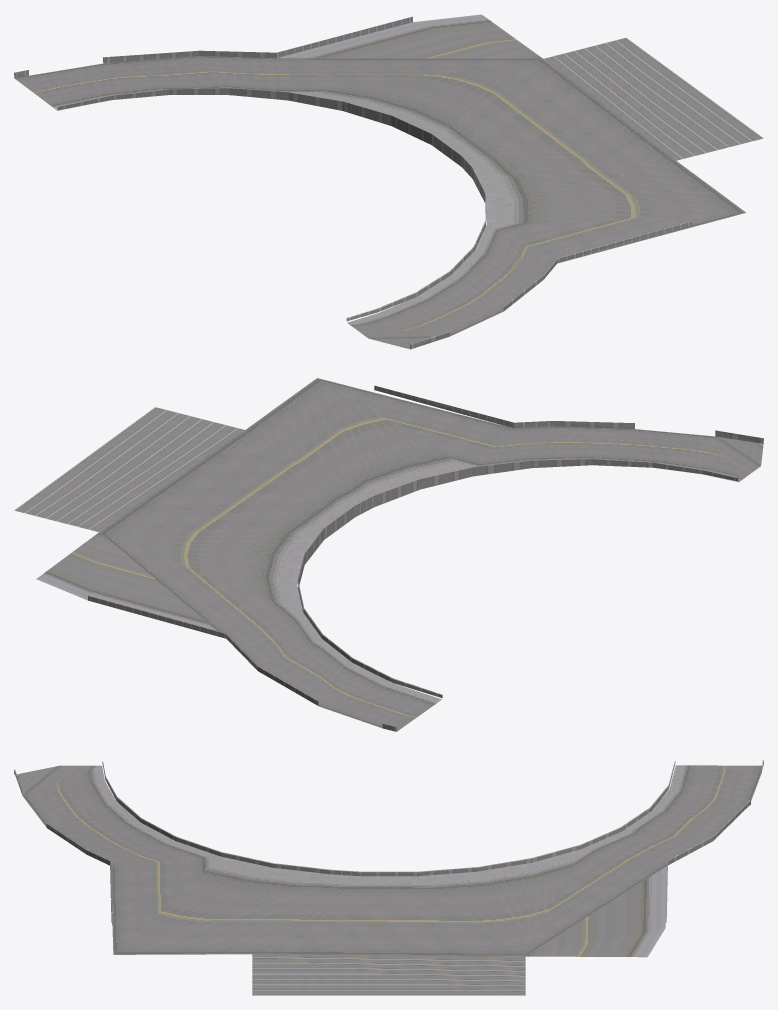
The model's file is lodageroad1.obj.
The picture shows the model from 3 angles, top to bottom: view 1: azimuth 30°, elevation 25°; view 2: azimuth 150°, elevation 25°; view 3: azimuth 270°, elevation 25°; orthographic projection. The views are drawn at different scales.
Parts seen in each view (by area): view 1: lodageroad1; view 2: lodageroad1; view 3: lodageroad1.
Boxes of the visible parts, x1=… form: lodageroad1: x1=14, y1=14, x2=763, y2=349; lodageroad1: x1=14, y1=378, x2=763, y2=731; lodageroad1: x1=14, y1=760, x2=763, y2=995.
Bounding box in the file's own units: 90.8 × 2.24 × 121.
Materials: 1 (1 with a texture image).
